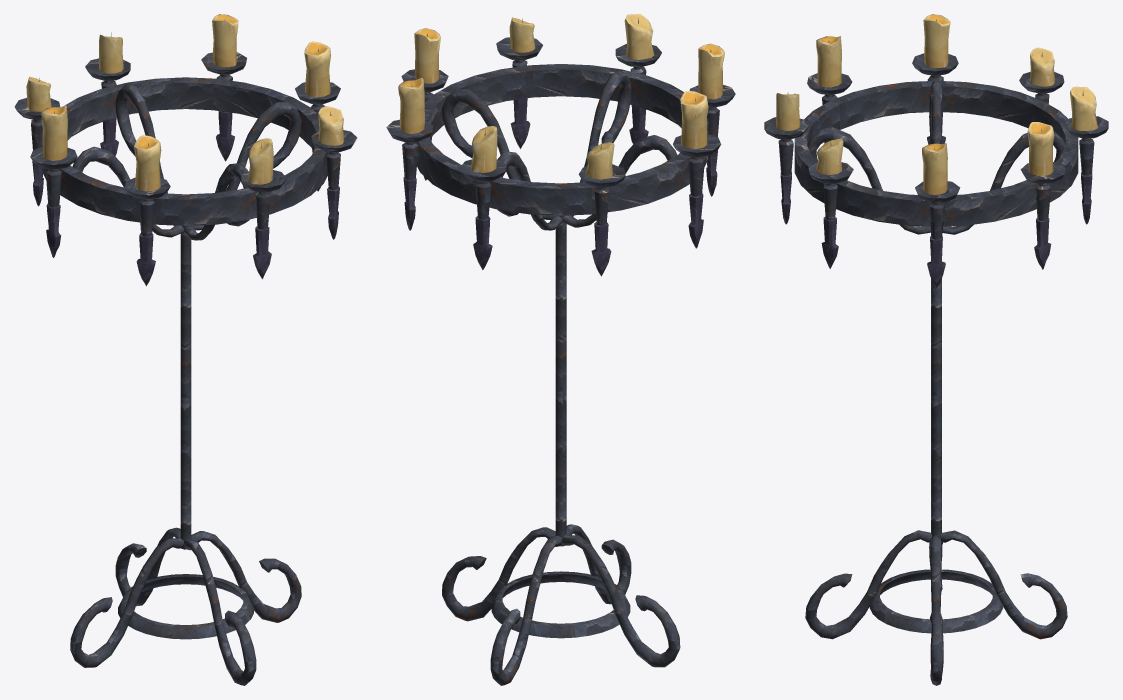
Rendered from furn_candle_stand.glb.
The picture shows the model from 3 angles, left to right: view 1: azimuth 30°, elevation 25°; view 2: azimuth 150°, elevation 25°; view 3: azimuth 270°, elevation 25°; orthographic projection. The views are drawn at different scales.
Parts seen in each view (by area): view 1: model; view 2: model; view 3: model.
Boxes of the visible parts, <box> form: model: <box>14,14,357,685</box>; model: <box>386,14,735,685</box>; model: <box>764,14,1108,685</box>.
Bounding box in the file's own units: 0.7323 × 1.31 × 0.7313.
Materials: 2 (2 with a texture image).
